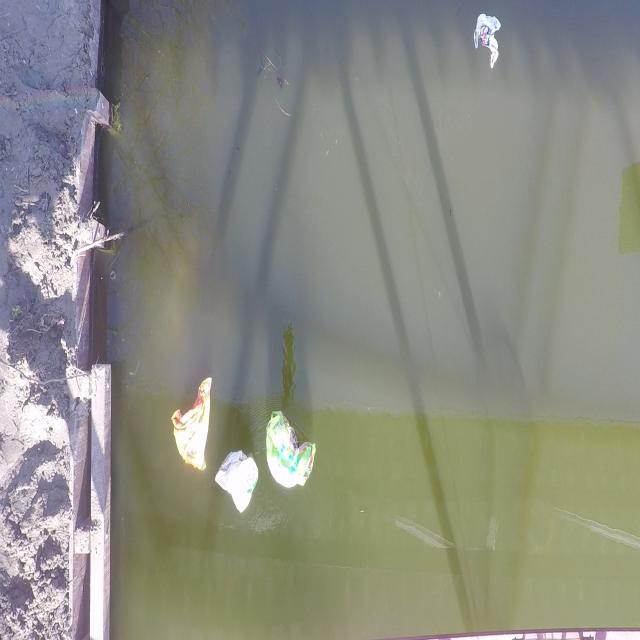Sac plastique: (263, 404, 319, 494), (170, 367, 214, 478), (213, 442, 259, 518), (470, 10, 506, 72)
